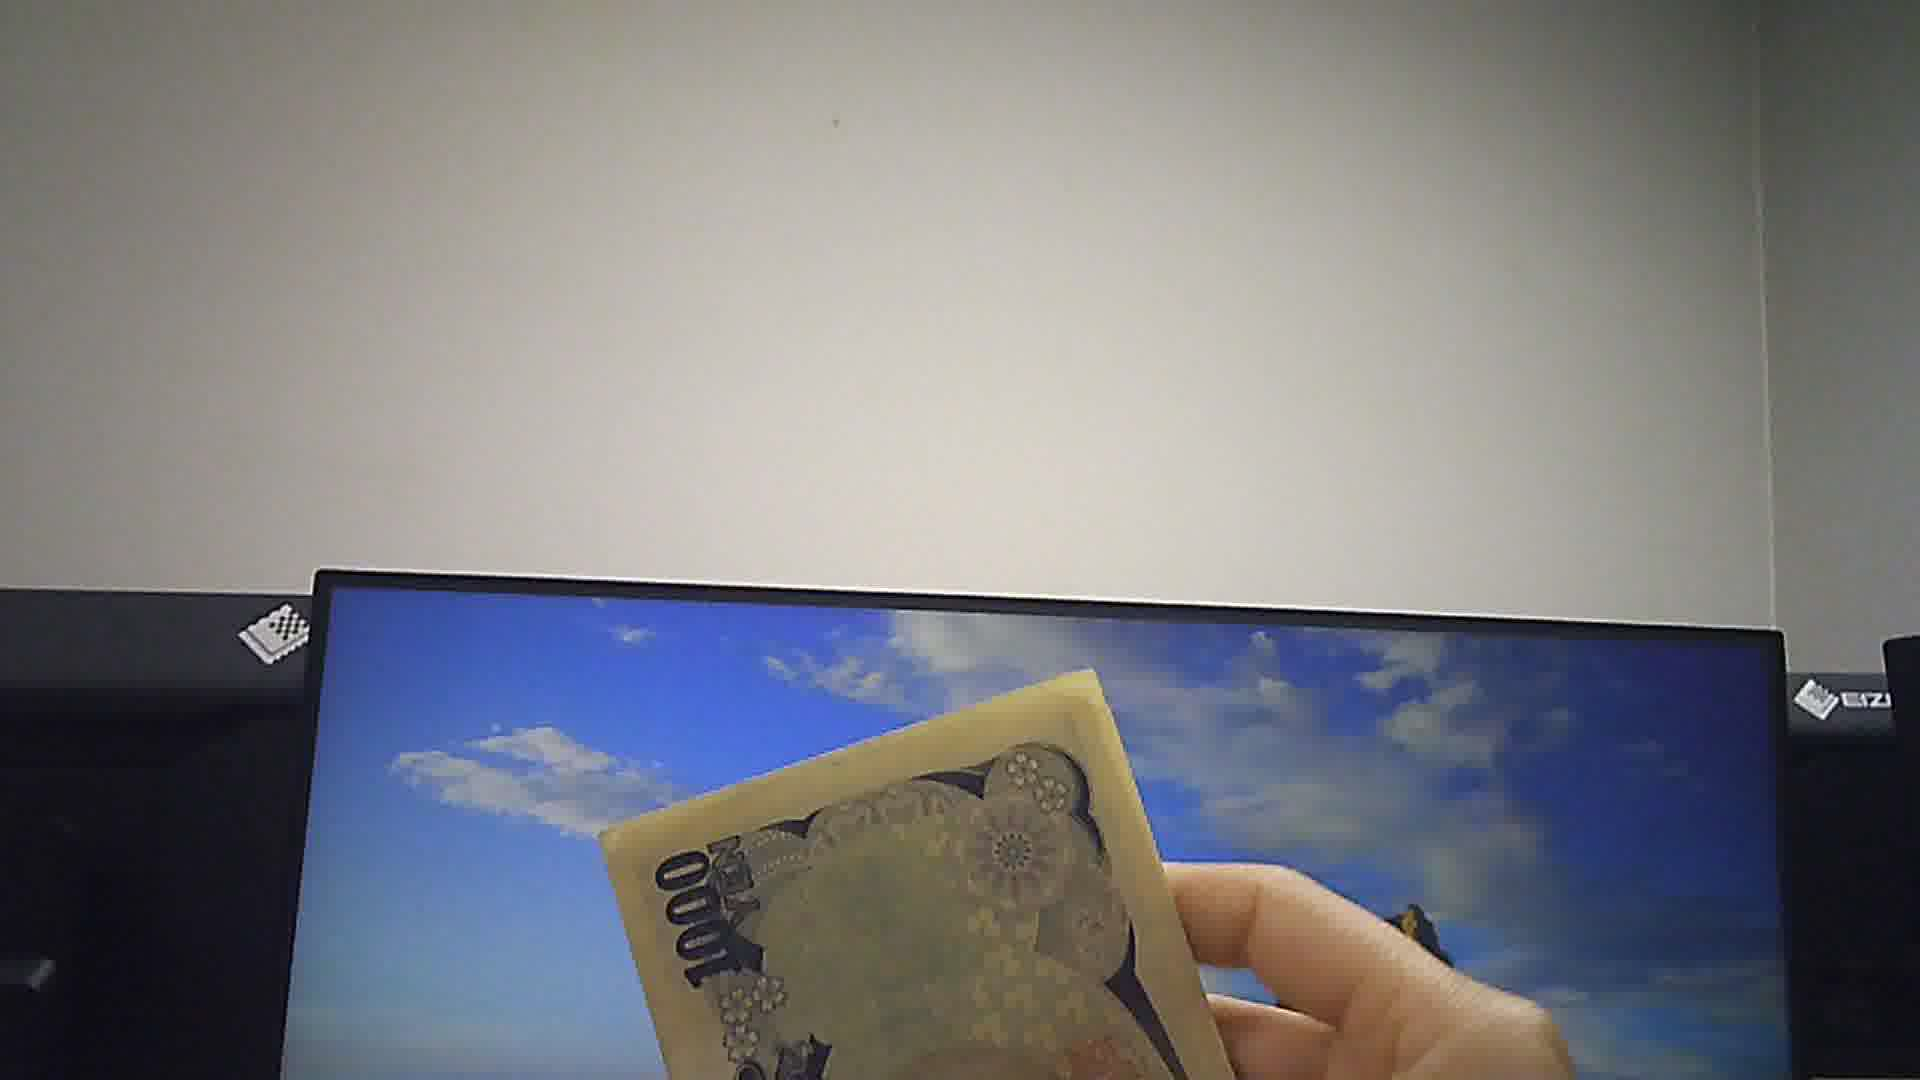1,000 Yen: (600, 655, 1215, 1079)
